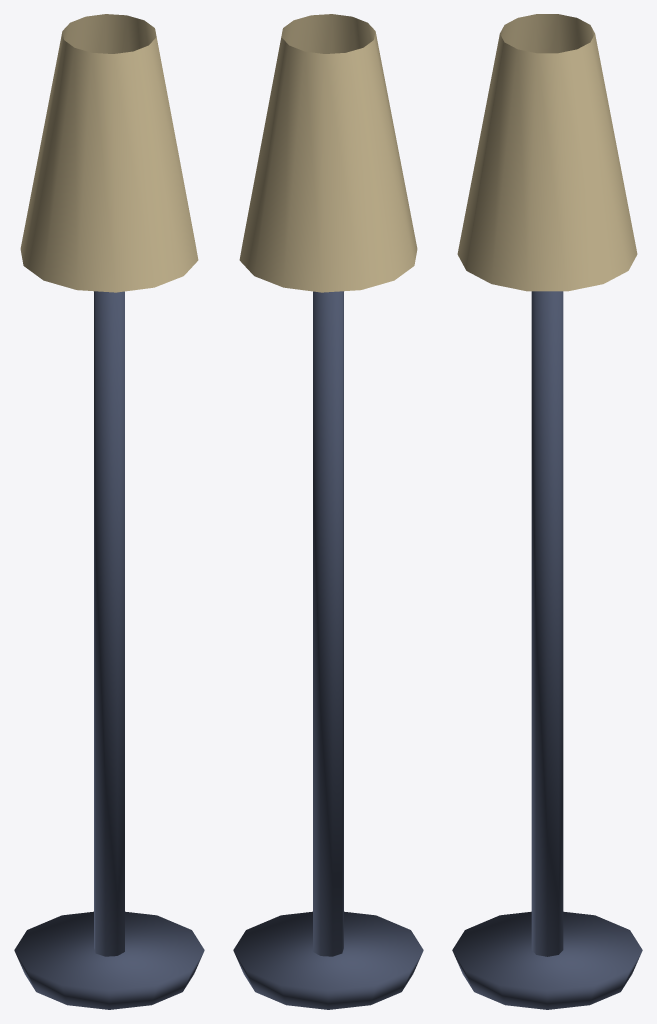
File: granite_lamp_v0.glb
3 views of the same model, side by side, from view 1: azimuth 30°, elevation 25°; view 2: azimuth 150°, elevation 25°; view 3: azimuth 270°, elevation 25° (orthographic).
Visible parts, largest first — view 1: granite_lamp_v0; view 2: granite_lamp_v0; view 3: granite_lamp_v0.
Part boxes in pixels (box(x1,y1,x2,y2)): granite_lamp_v0: box(14, 14, 204, 1009); granite_lamp_v0: box(233, 14, 423, 1009); granite_lamp_v0: box(452, 14, 642, 1009).
Bounding box in the file's own units: 0.36 × 1.96 × 0.36.
